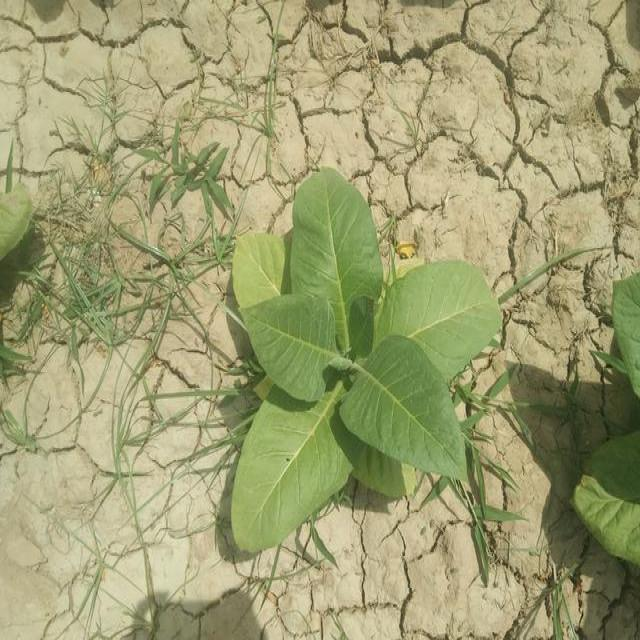crop: (223, 182, 497, 550), (583, 268, 640, 564)
